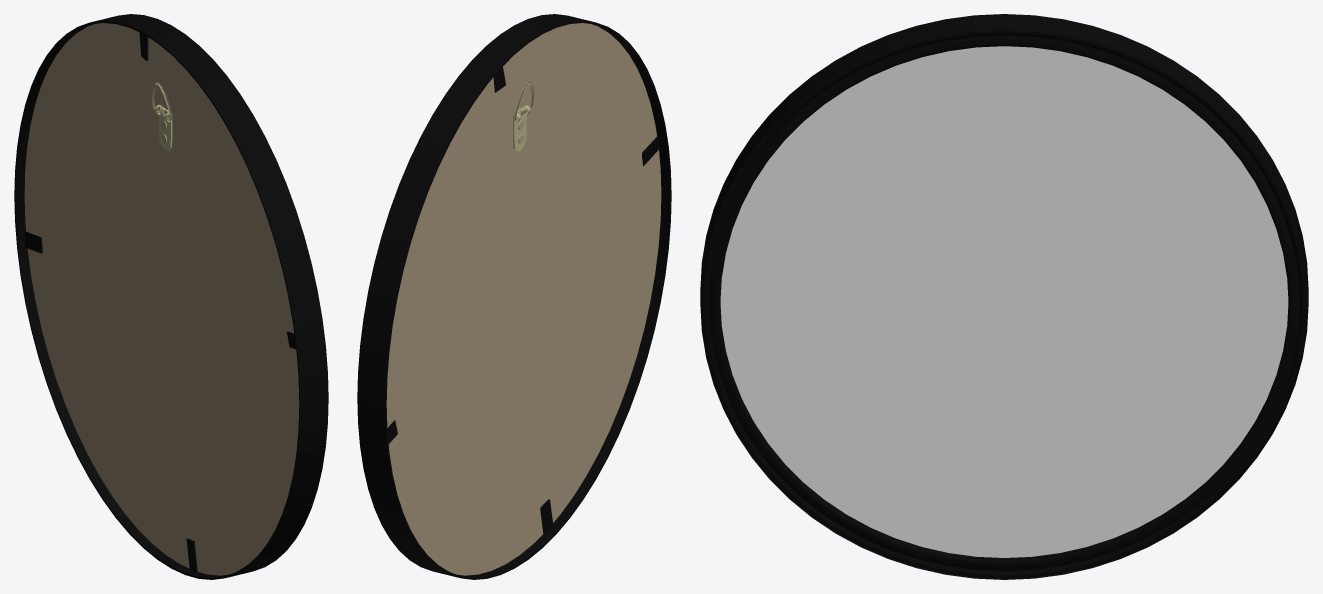
The model's file is mirror_glb.glb.
The picture shows the model from 3 angles, left to right: view 1: azimuth 30°, elevation 25°; view 2: azimuth 150°, elevation 25°; view 3: azimuth 270°, elevation 25°; orthographic projection. The views are drawn at different scales.
Parts seen in each view (by area): view 1: Mirror - Round - RUSTA Hugo; view 2: Mirror - Round - RUSTA Hugo; view 3: Mirror - Round - RUSTA Hugo.
Boxes of the visible parts, <box> form: Mirror - Round - RUSTA Hugo: <box>14,14,328,579</box>; Mirror - Round - RUSTA Hugo: <box>357,14,671,579</box>; Mirror - Round - RUSTA Hugo: <box>700,14,1308,579</box>.
Size of the model in its own units: 0.2014 by 3.5 by 3.5.
